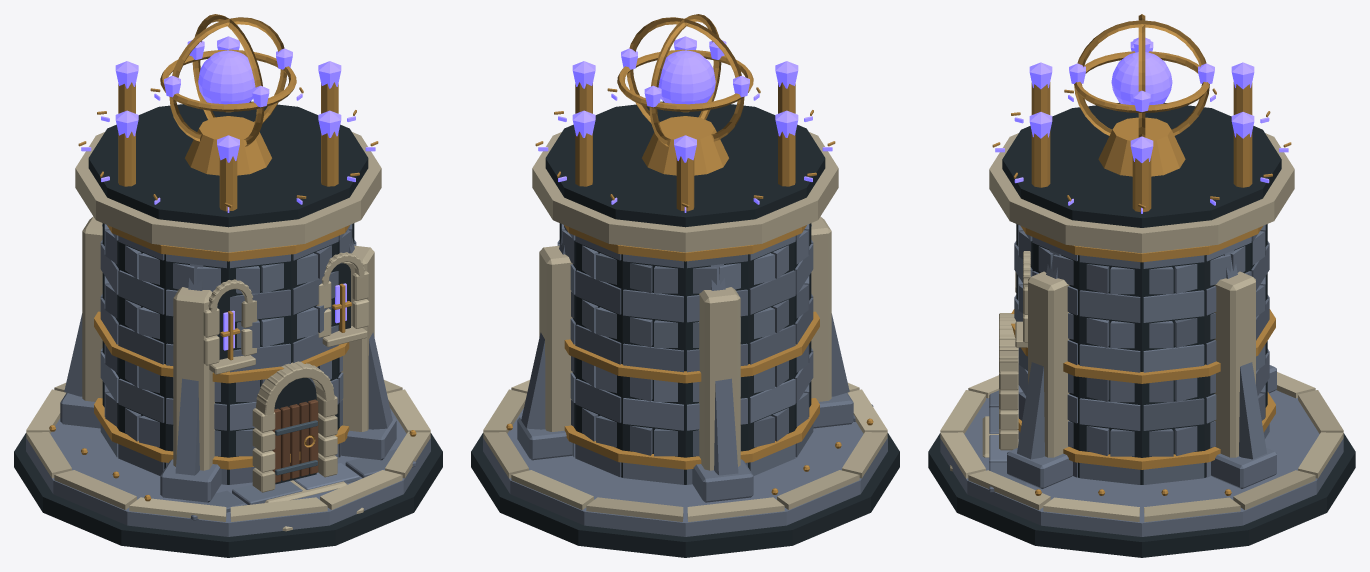
The model's file is mage__arcanista__L05.glb.
The picture shows the model from 3 angles, left to right: view 1: azimuth 30°, elevation 25°; view 2: azimuth 150°, elevation 25°; view 3: azimuth 270°, elevation 25°; orthographic projection.
Visible parts, largest first — view 1: structure, weapon; view 2: structure, weapon; view 3: structure, weapon.
Boxes of the visible parts, x1,y1,x2,y2 form: structure: [14, 36, 442, 557]; weapon: [160, 14, 296, 175]; structure: [471, 36, 899, 557]; weapon: [617, 14, 753, 175]; structure: [928, 41, 1355, 557]; weapon: [1069, 14, 1214, 176].
Bounding box in the file's own units: 0.8624 × 0.9955 × 0.8624.
